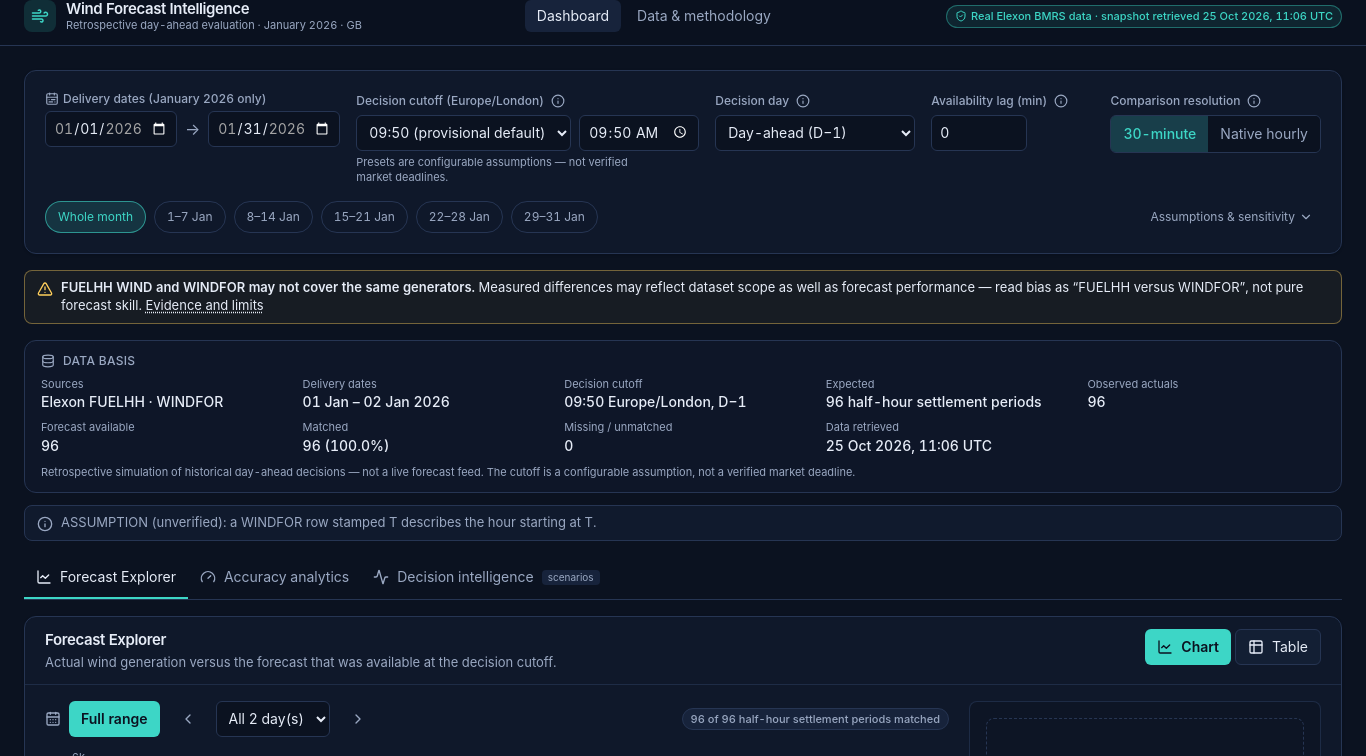
Scenario: interval inspection and revision exploration › shows publication time, lead time, signed error and the reason for selection
The image size is (1366, 756).
Click the button "Table" at (1278, 647), box [1235,629,1321,665]
(page scrolled)
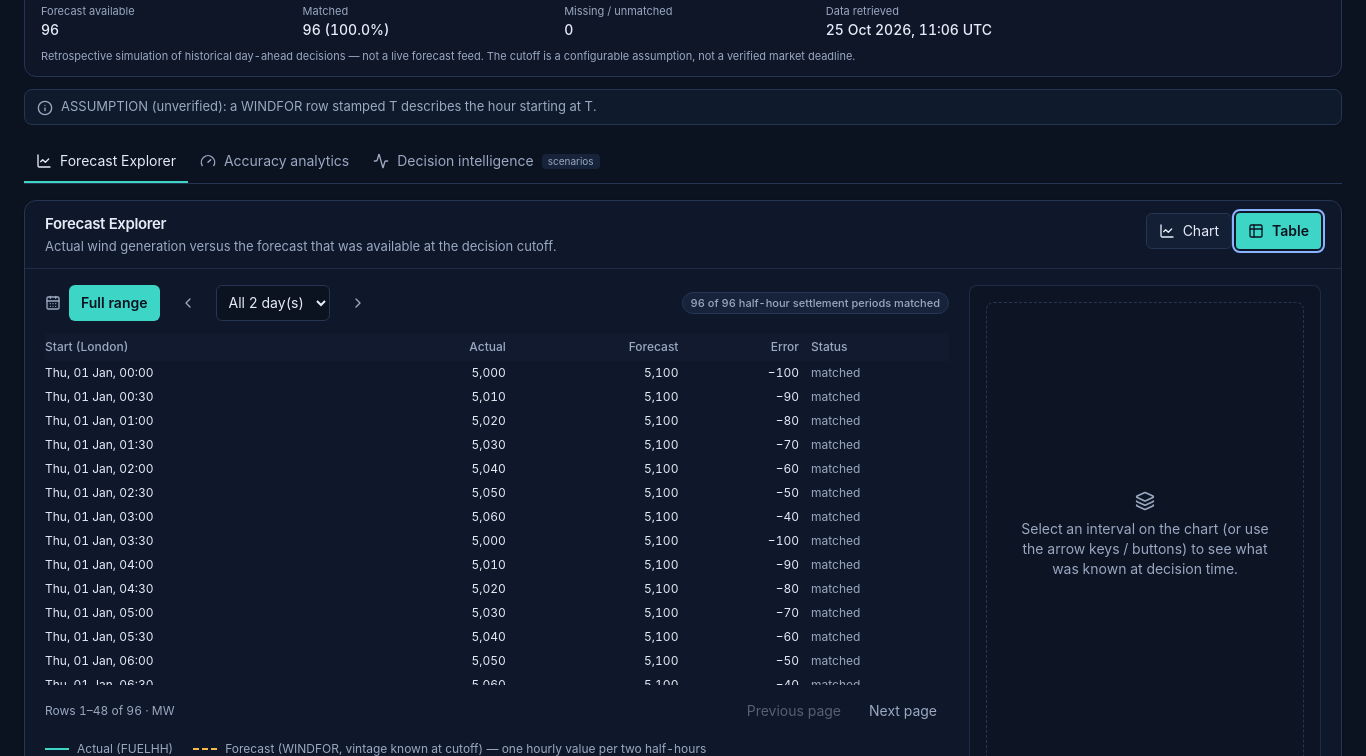
Click the button "Thu, 01 Jan, 00:00" at (99, 373), box [45,365,154,381]
(page scrolled)
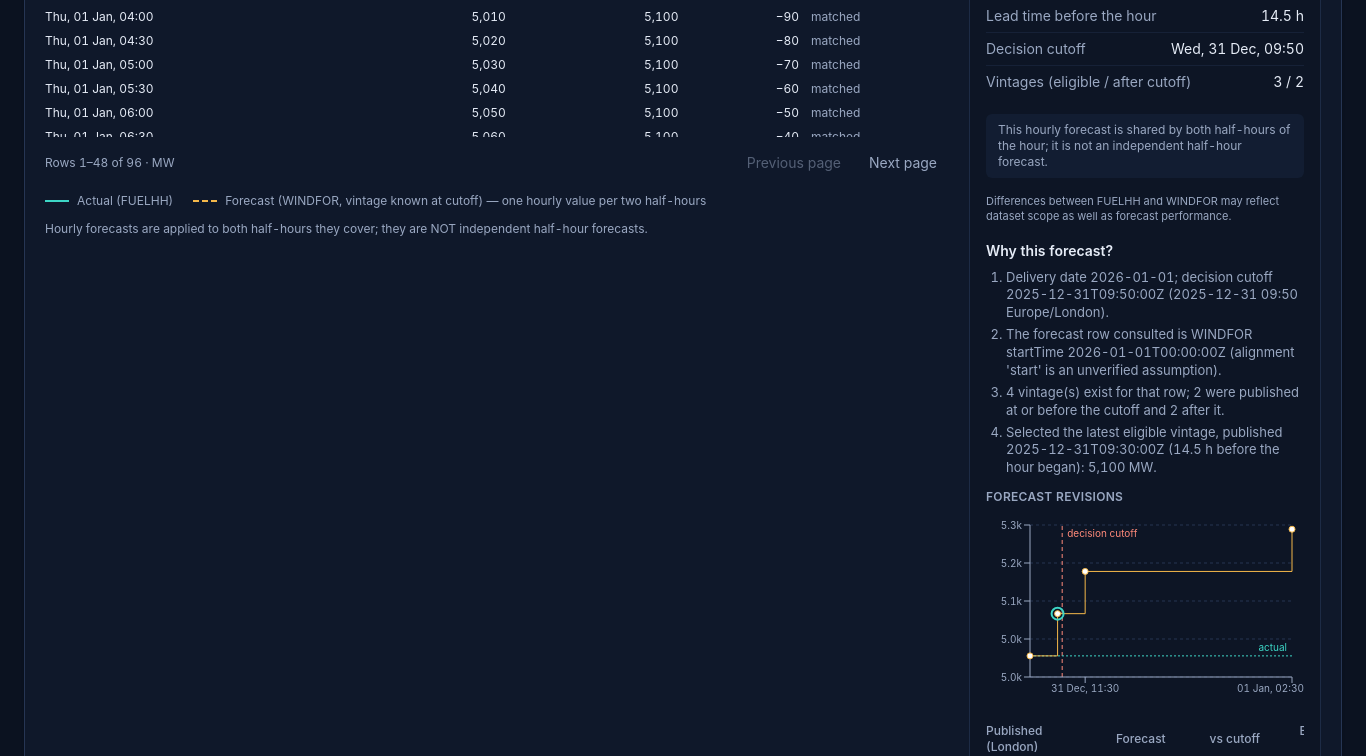
Now the element with test id "interval-inspector" shows "Lead time before the hour", box [986,7,1156,24]
Now the list with test id "why-selected" shows "Selected the latest eligible vintage", box [1006,424,1282,475]
